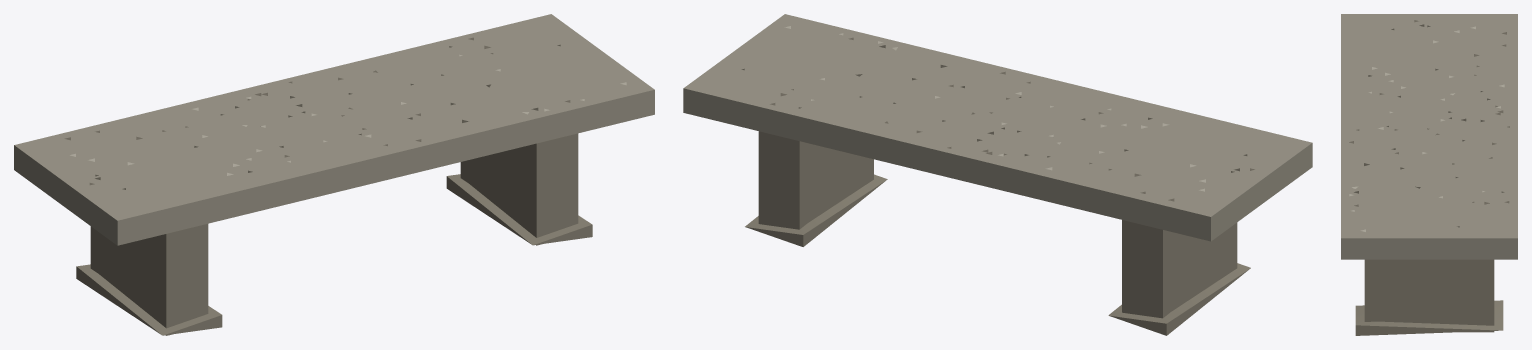
Rendered from ghe_da_cong_vien.glb.
3 renders of one model, left to right at view 1: azimuth 30°, elevation 25°; view 2: azimuth 150°, elevation 25°; view 3: azimuth 270°, elevation 25°, orthographic. The views are drawn at different scales.
Visible parts, largest first — view 1: ghe_da_cong_vien; view 2: ghe_da_cong_vien; view 3: ghe_da_cong_vien.
Part boxes in pixels (x1,y1,x2,y2): ghe_da_cong_vien: (14,14,654,335); ghe_da_cong_vien: (683,14,1312,335); ghe_da_cong_vien: (1341,14,1517,335).
Size of the model in its own units: 1.8 by 0.4516 by 0.6.
